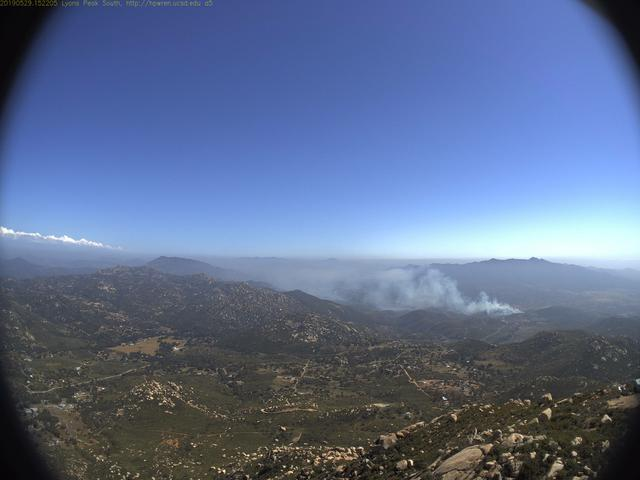smoke: (306, 259, 521, 316)
